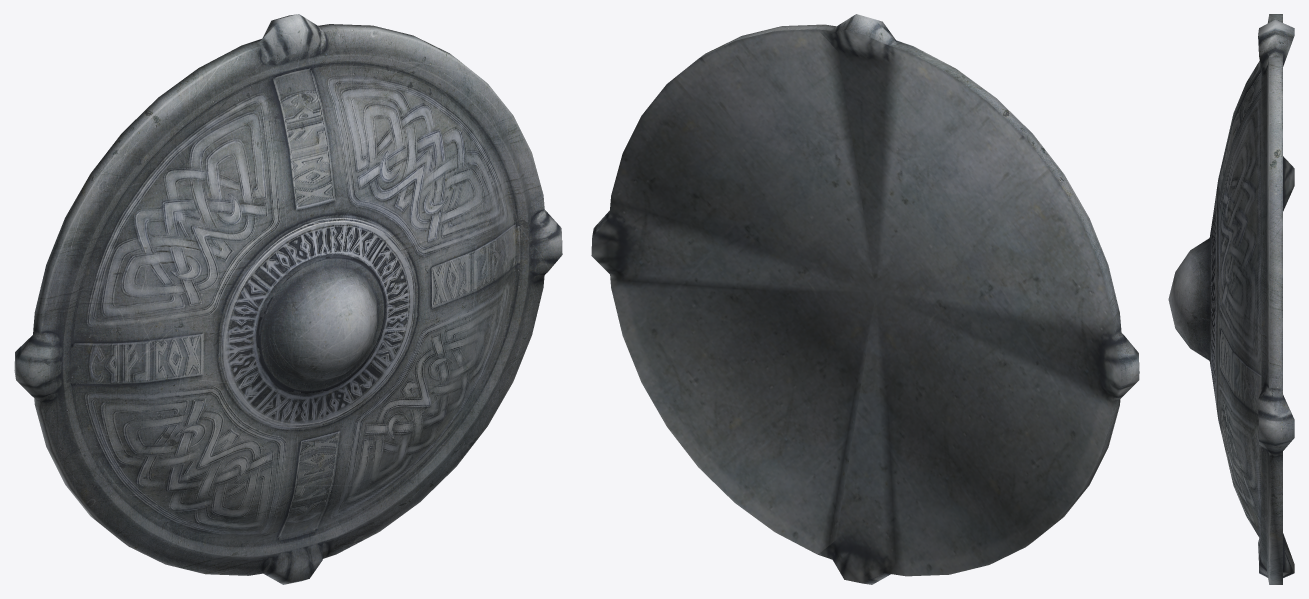
The model's file is shield_middle.FBX.
3 views of the same model, side by side, from view 1: azimuth 30°, elevation 25°; view 2: azimuth 150°, elevation 25°; view 3: azimuth 270°, elevation 25° (orthographic). The views are drawn at different scales.
Parts seen in each view (by area): view 1: shield_middle; view 2: shield_middle; view 3: shield_middle.
Boxes of the visible parts, x1=… form: shield_middle: x1=14, y1=14, x2=562, y2=584; shield_middle: x1=591, y1=14, x2=1139, y2=584; shield_middle: x1=1168, y1=14, x2=1294, y2=584.
Size of what is drawn, in the model's own units: 53.94 by 53.57 by 11.06.
